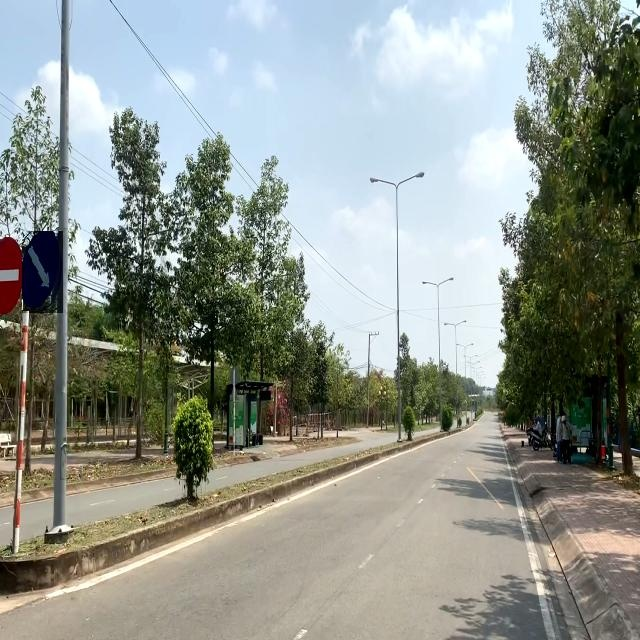bien_cam: (22, 232, 63, 314)
